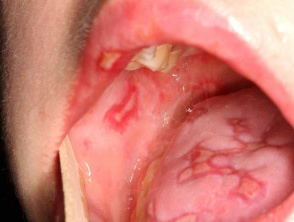SJS-TEN: (34, 0, 294, 222)
